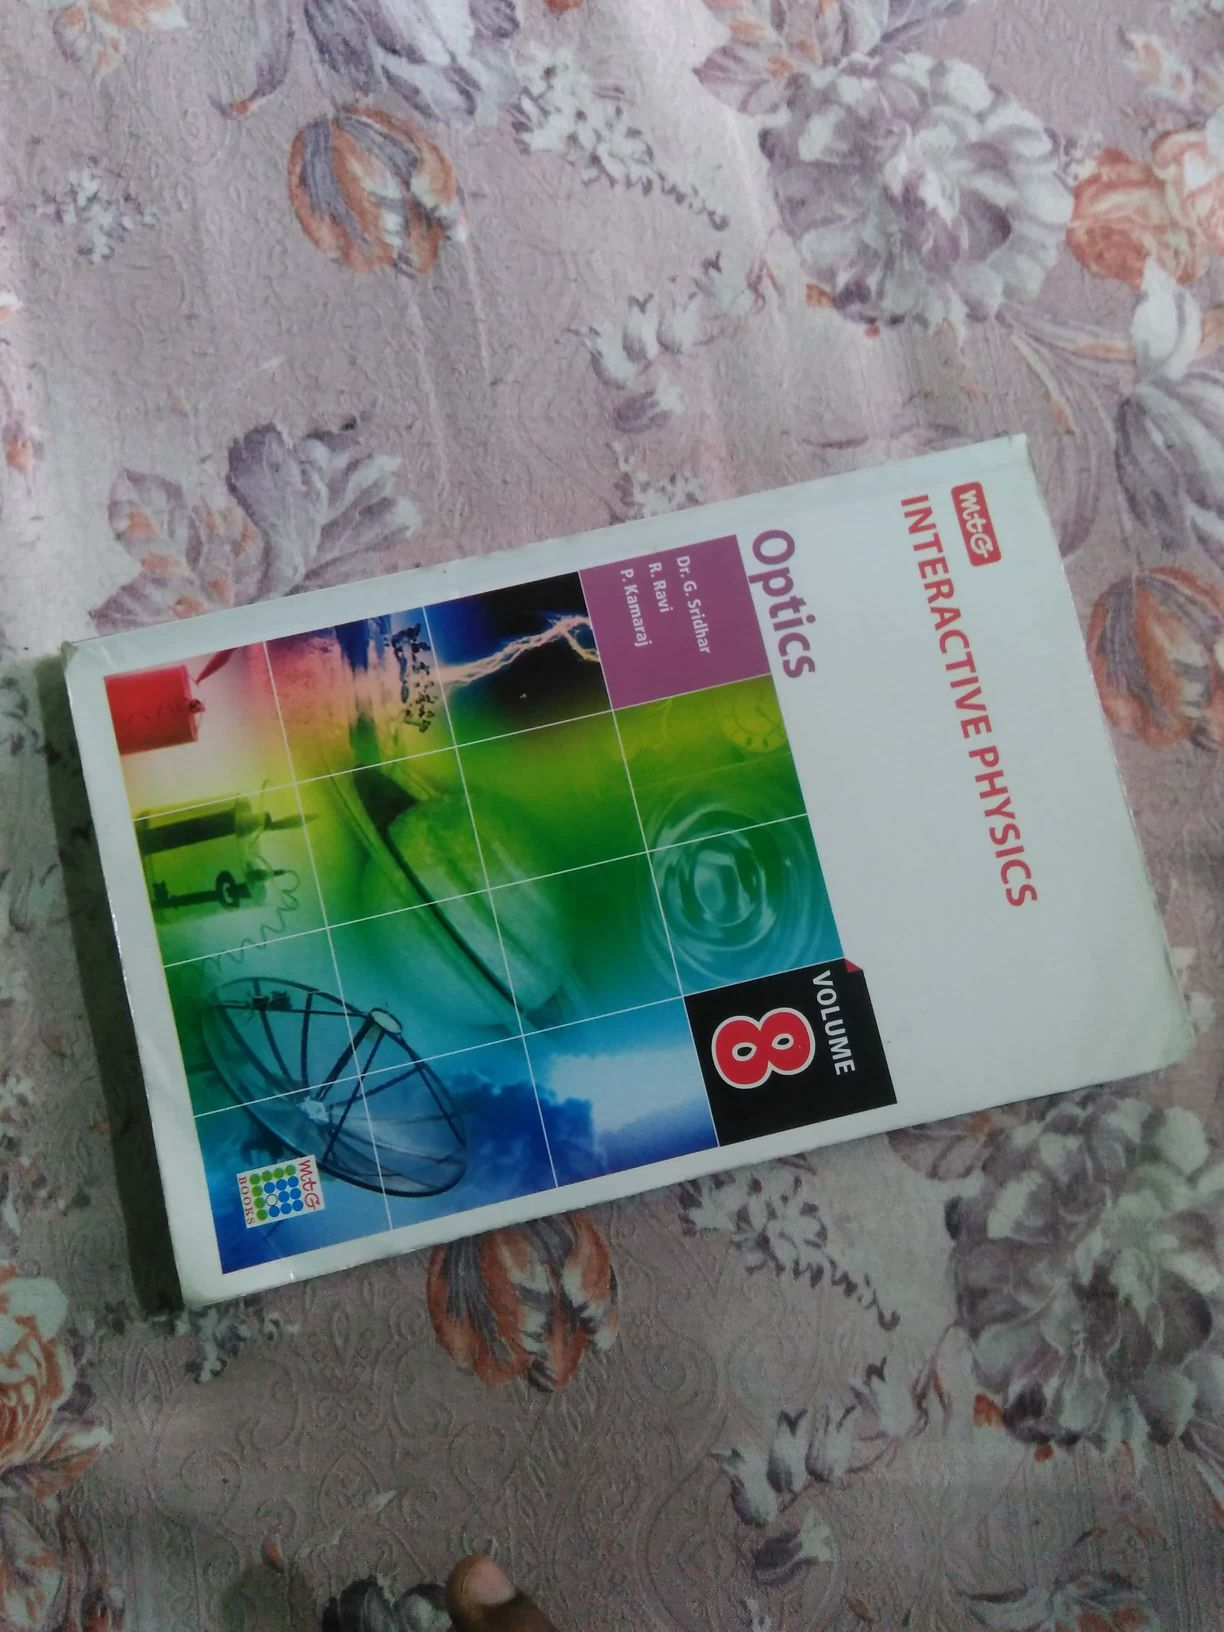optics: (53, 497, 1210, 1253)
